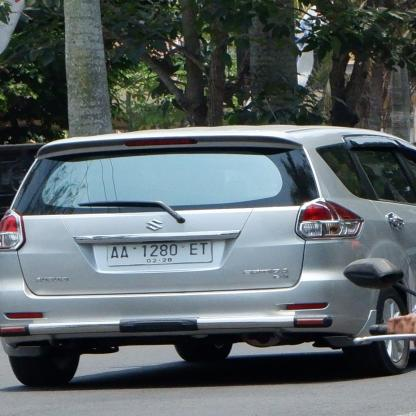Plat-Nomor: (103, 238, 215, 268)
